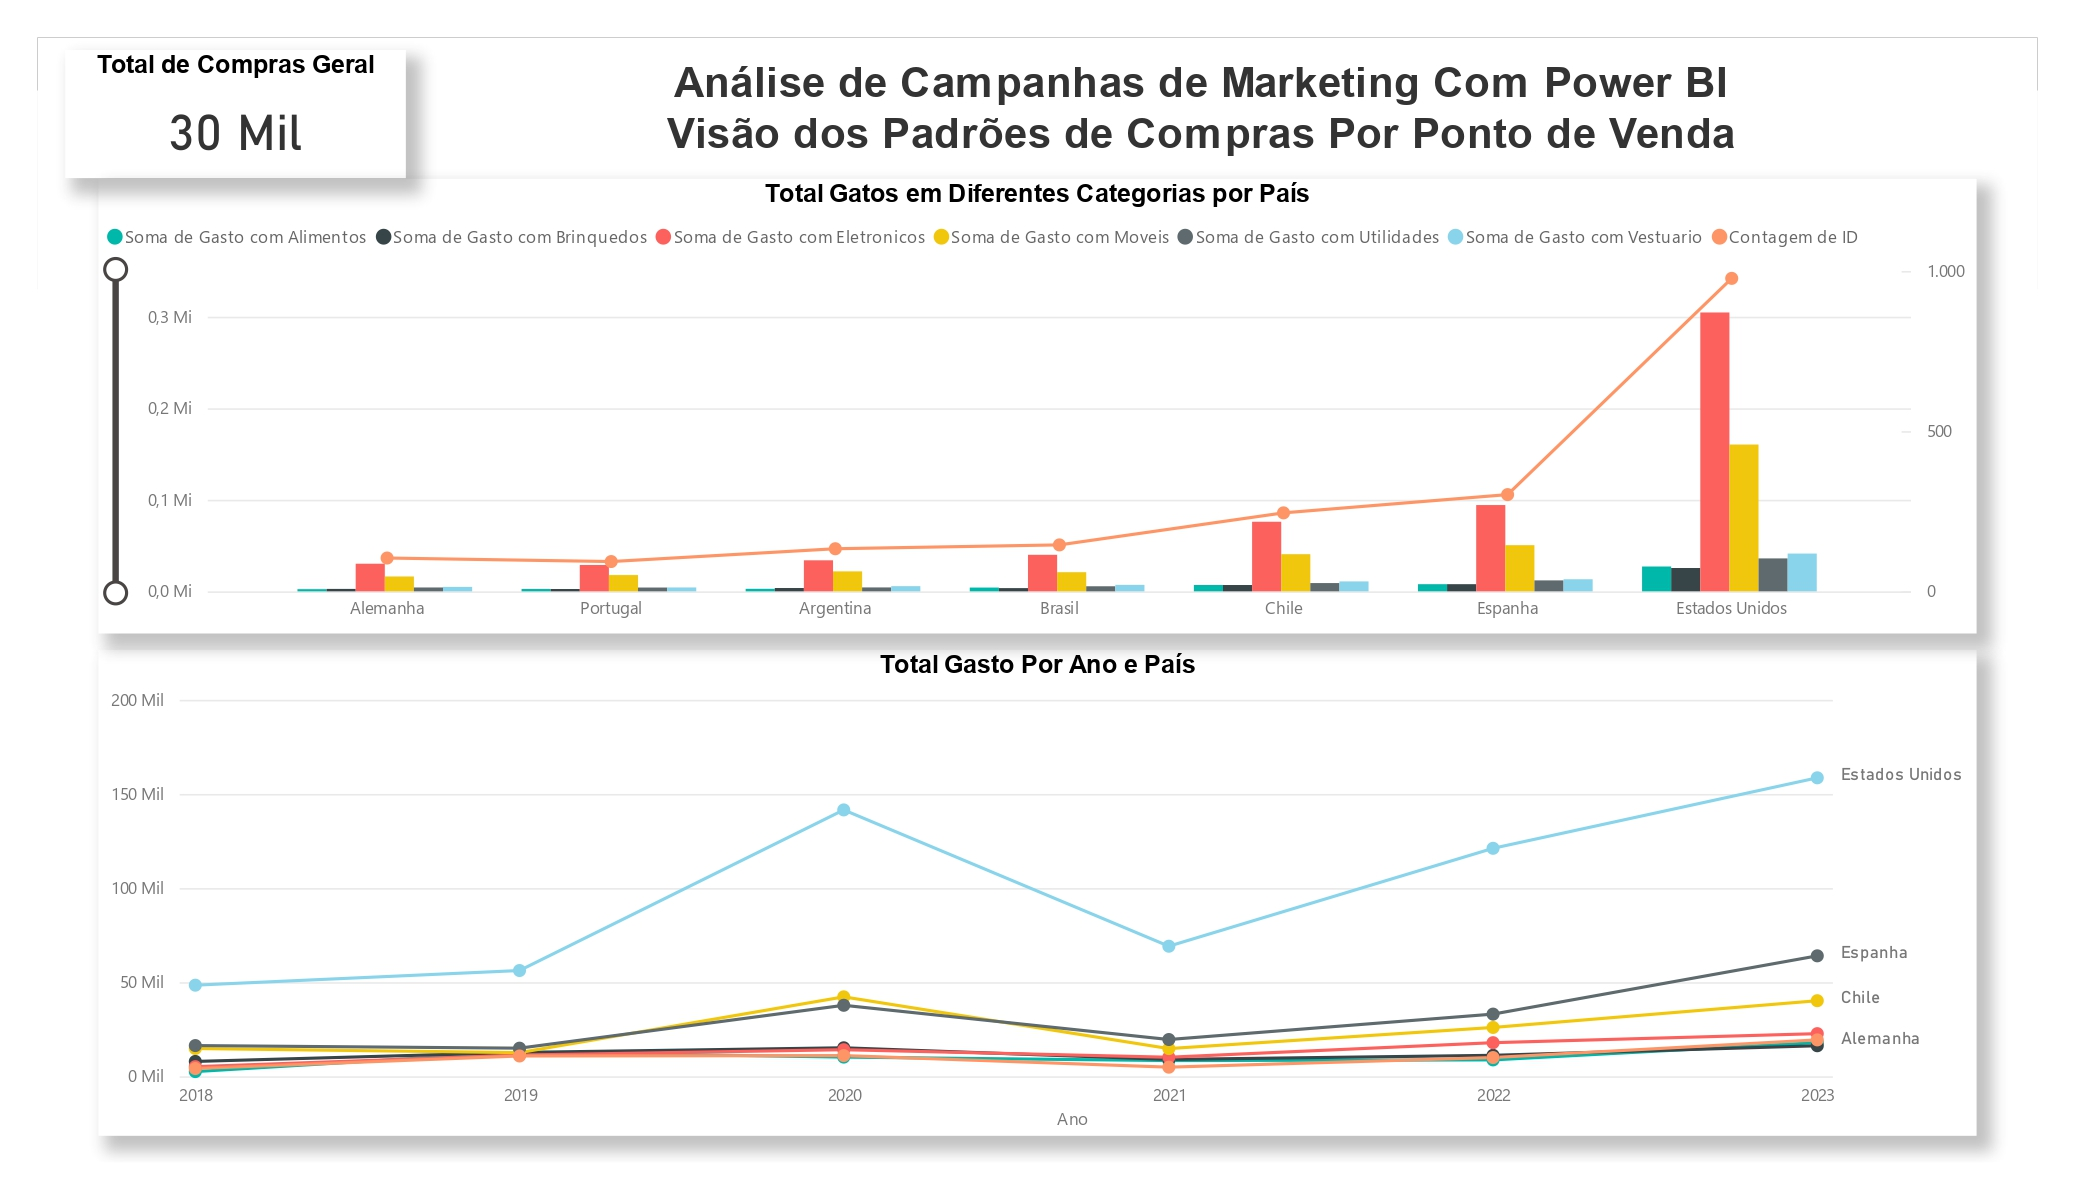

The page's visual inventory and layout, read from the dashboard file:
{"tool":"powerbi","page":{"name":"Visão Ponto de Vendas","canvas":[1280,720],"ordinal":3},"visuals":[{"type":"textbox","box":[248.7,8.4,993,82.3],"z":0},{"type":"lineClusteredColumnComboChart","title":"Total Gatos em Diferentes Categorias por País","fields":{"Category":["Dados_Marketing.Pais"],"Y":["Sum(Dados_Marketing.Gasto com Alimentos)","Sum(Dados_Marketing.Gasto com Brinquedos)","Sum(Dados_Marketing.Gasto com Eletronicos)","Sum(Dados_Marketing.Gasto com Moveis)","Sum(Dados_Marketing.Gasto com Utilidades)","Sum(Dados_Marketing.Gasto com Vestuario)"],"Y2":["CountNonNull(Dados_Marketing.ID)"]},"box":[39.3,90.7,1202.4,290.8],"z":1000},{"type":"lineChart","title":"Total Gasto Por Ano e País","fields":{"Y":["Dados_Marketing.Total_Gasto"],"Category":["Dados_Marketing.Data Cadastro.Variation.Hierarquia de datas.Ano"],"Series":["Dados_Marketing.Pais"]},"box":[39.3,391.8,1202.4,311.4],"z":2000},{"type":"card","title":"Total de Compras Geral","fields":{"Values":["Dados_Marketing.Total_Compras"]},"box":[17.7,8,218.1,82.5],"z":3000}]}

Visuals, with their boxes on the page's 1280x720 design canvas (x1, y1, x2, y2). These are canvas units, not pixel positions in the 2075x1200 screenshot, which may show the page scaled, cropped or inside an application window:
textbox: bbox(249, 8, 1242, 91)
"Total Gatos em Diferentes Categorias por País" lineClusteredColumnComboChart: bbox(39, 91, 1242, 382)
"Total Gasto Por Ano e País" lineChart: bbox(39, 392, 1242, 703)
"Total de Compras Geral" card: bbox(18, 8, 236, 90)
